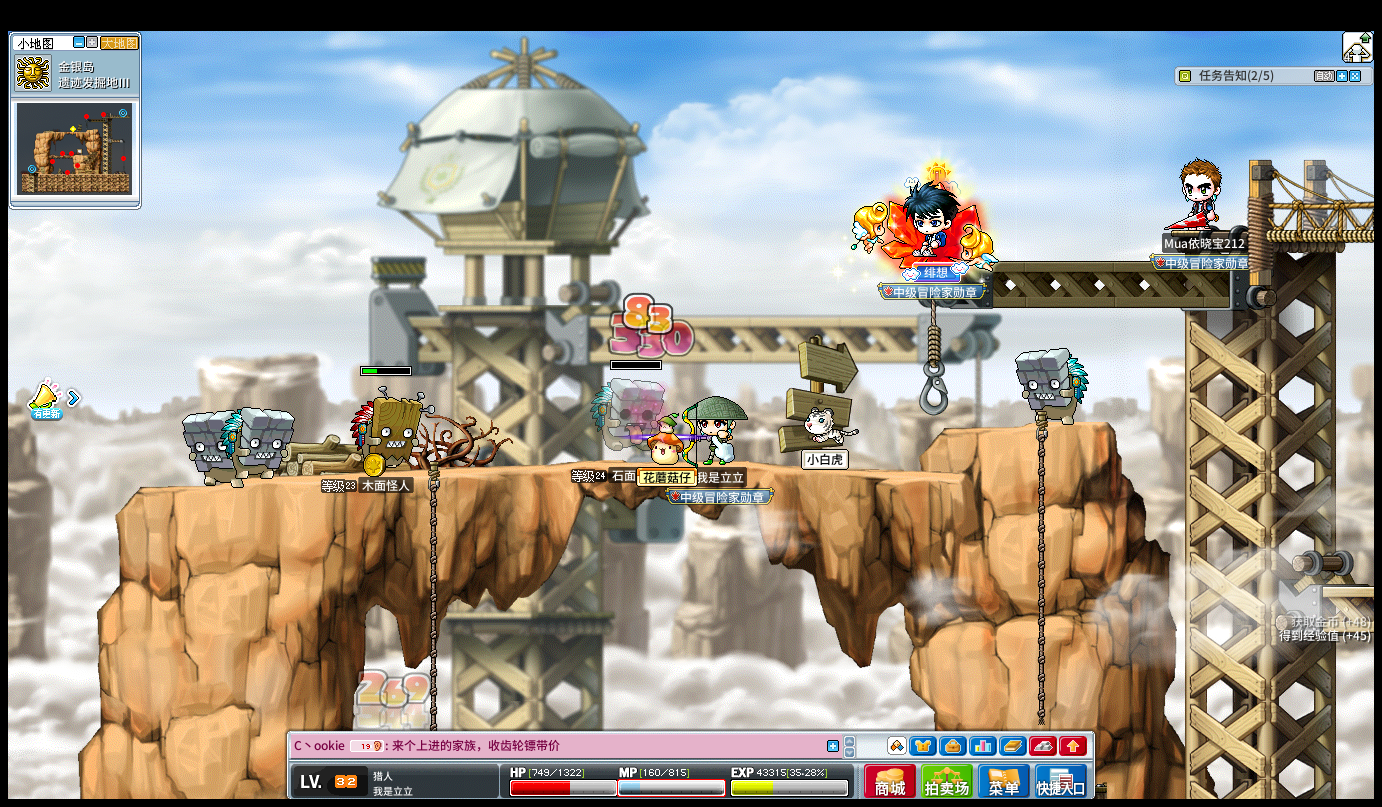floor: (149, 455, 995, 480), (948, 417, 1114, 433), (945, 421, 1118, 436), (1321, 583, 1376, 595)
monster: (349, 388, 430, 472), (590, 377, 663, 461), (1014, 346, 1088, 425), (222, 406, 293, 483), (181, 410, 227, 486)
rope: (1032, 409, 1048, 727), (424, 455, 439, 792)
